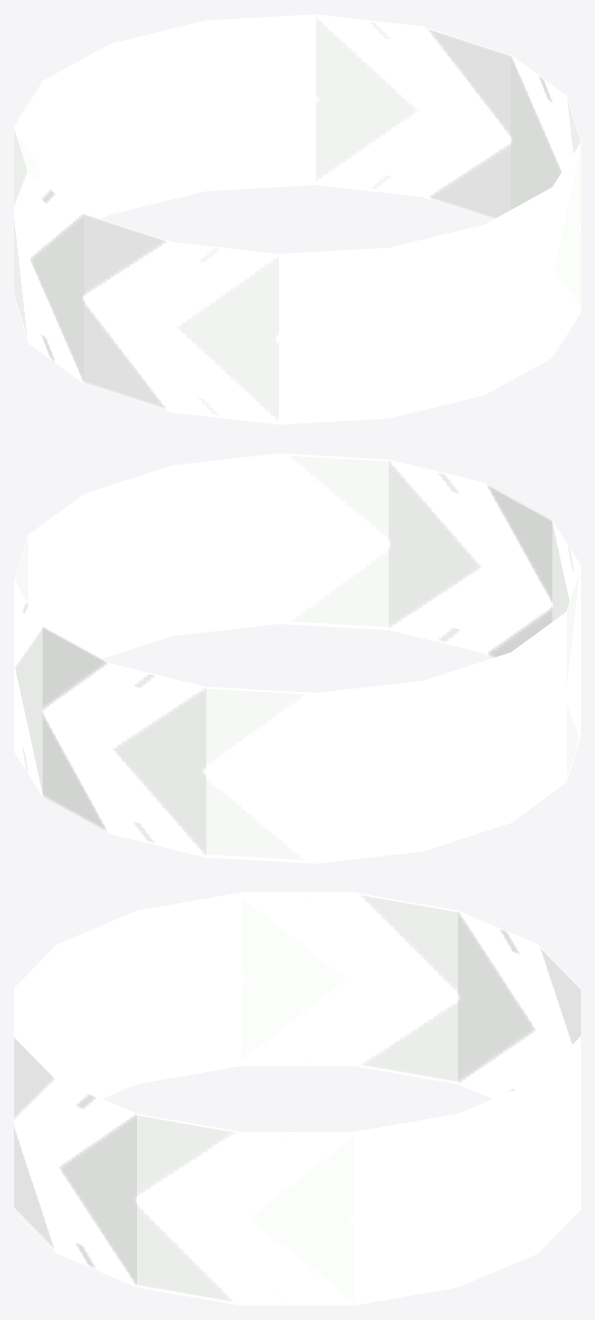
The model's file is TowerAa.fbx.
3 views of the same model, one above another, from view 1: azimuth 30°, elevation 25°; view 2: azimuth 150°, elevation 25°; view 3: azimuth 270°, elevation 25° (orthographic).
Visible parts, largest first — view 1: SM_VA_TowerAa.mo; view 2: SM_VA_TowerAa.mo; view 3: SM_VA_TowerAa.mo.
Boxes of the visible parts, x1,y1,x2,y2 form: SM_VA_TowerAa.mo: (14,14,580,424); SM_VA_TowerAa.mo: (14,453,580,863); SM_VA_TowerAa.mo: (14,892,580,1305).
Size of the model in its own units: 1.28 by 0.4317 by 1.28.
